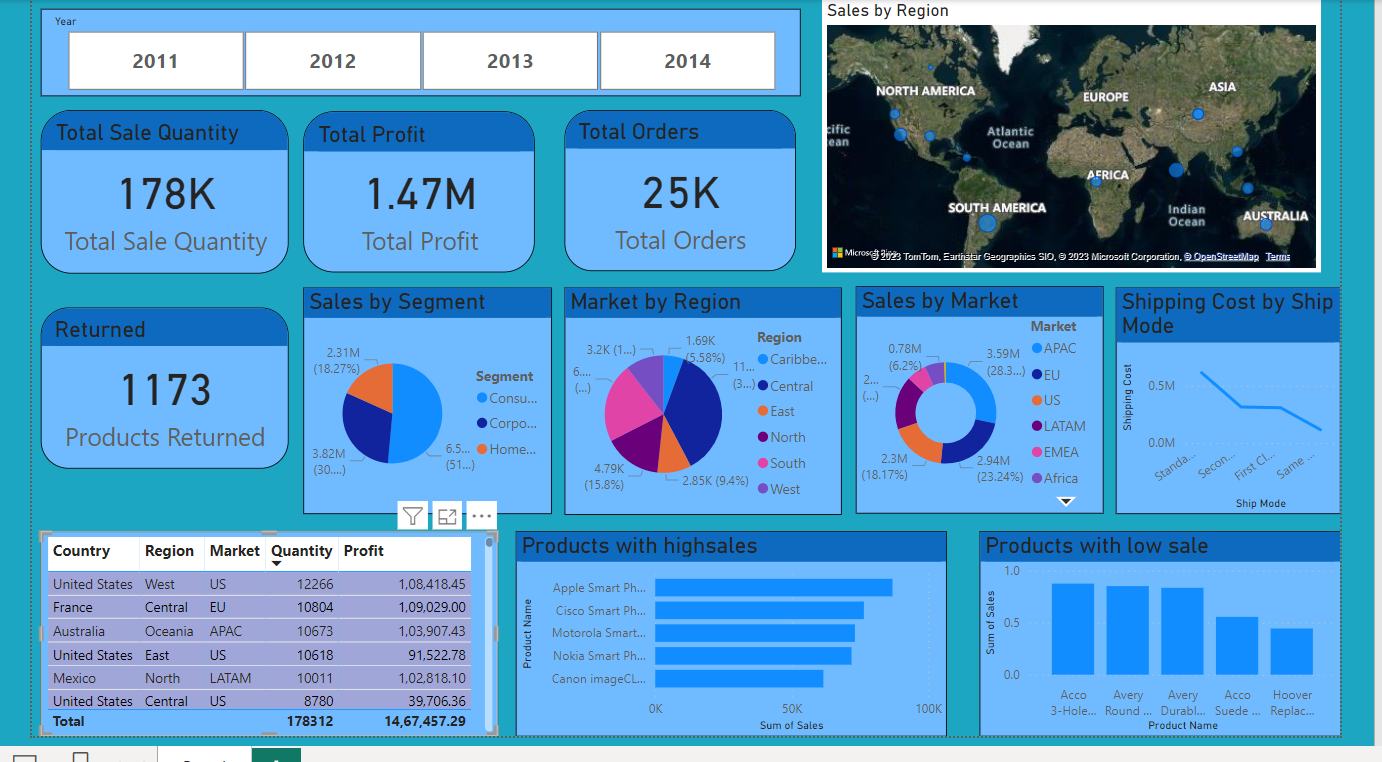

This screenshot's page, from the dashboard's own definition file:
{"tool":"powerbi","page":{"name":"Page 1","canvas":[1280,720],"ordinal":0},"visuals":[{"type":"card","title":"Total Sale Quantity","fields":{"Values":["Orders.TotalSaleQnty"]},"box":[8.6,108.8,242,160.1],"z":0},{"type":"card","title":"Total Profit","fields":{"Values":["Orders.Totalprofit"]},"box":[265.3,107.6,226.1,157.7],"z":1000},{"type":"card","title":"Total Orders","fields":{"Values":["Orders.totalorder"]},"box":[508.5,107.6,226.1,157.7],"z":2000},{"type":"map","fields":{"Category":["Orders.Region"],"Size":["Sum(Orders.Sales)"]},"box":[772.6,0,487.7,266.5],"z":3000},{"type":"pieChart","fields":{"Category":["Orders.Segment"],"Y":["Sum(Orders.Sales)"]},"box":[265.3,281.2,246.9,183.4],"z":4000},{"type":"barChart","title":" Products with highsales","fields":{"Category":["Orders.Product Name"],"Y":["Sum(Orders.Sales)"]},"box":[473.1,519.5,421.7,200.5],"z":5000},{"type":"columnChart","title":"Products with low sale","fields":{"Y":["Sum(Orders.Sales)"],"Category":["Orders.Product Name"]},"box":[926.6,519.5,353.3,200.5],"z":6000},{"type":"tableEx","fields":{"Values":["Orders.Country","Orders.Region","Orders.Market","Sum(Orders.Quantity)","Sum(Orders.Profit)"]},"box":[26.9,519.5,429.1,200.5],"z":7000},{"type":"pieChart","fields":{"Y":["CountNonNull(Orders.Market)"],"Series":["Orders.Region"]},"box":[520.7,281.2,284.8,222.5],"z":8000},{"type":"slicer","fields":{"Values":["Orders.Order Date.Variation.Date Hierarchy.Year"]},"box":[39.8,13.7,712.2,72.7],"z":9000},{"type":"donutChart","fields":{"Y":["Sum(Orders.Sales)"],"Category":["Orders.Market"]},"box":[815.3,281.2,242,222.5],"z":10000},{"type":"card","title":"Returned","fields":{"Values":["Returns.rtnpdct"]},"box":[8.6,300.7,242,157.7],"z":11000},{"type":"lineChart","fields":{"Category":["Orders.Ship Mode"],"Y":["Sum(Orders.Shipping Cost)"]},"box":[1072.1,281.2,207.8,221.3],"z":11001}]}

Visuals, with their boxes in screenshot pixels (x1, y1, x2, y2):
"Total Sale Quantity" card: locate(0, 103, 237, 270)
"Total Profit" card: locate(252, 102, 488, 266)
"Total Orders" card: locate(506, 102, 742, 266)
map - Orders.Region x Sum(Orders.Sales): locate(782, 0, 1292, 268)
pieChart - Orders.Segment x Sum(Orders.Sales): locate(252, 283, 510, 475)
" Products with highsales" barChart: locate(469, 532, 910, 742)
"Products with low sale" columnChart: locate(943, 532, 1312, 742)
tableEx - Orders.Country x Orders.Region: locate(3, 532, 451, 742)
pieChart - CountNonNull(Orders.Market) x Orders.Region: locate(519, 283, 817, 516)
slicer - Orders.Order Date.Variation.Date Hierarchy.Year: locate(16, 4, 761, 79)
donutChart - Sum(Orders.Sales) x Orders.Market: locate(827, 283, 1080, 516)
"Returned" card: locate(0, 303, 237, 468)
lineChart - Orders.Ship Mode x Sum(Orders.Shipping Cost): locate(1095, 283, 1312, 514)
